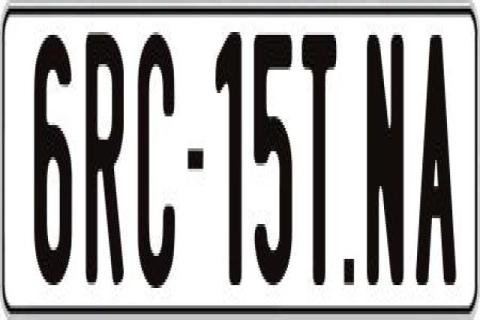0: (252, 35, 298, 303), (30, 32, 74, 291), (214, 27, 244, 297)
A: (416, 32, 459, 300)
C: (134, 29, 177, 291)
N: (365, 32, 403, 300)
R: (85, 32, 123, 302)
T: (299, 32, 339, 288)
